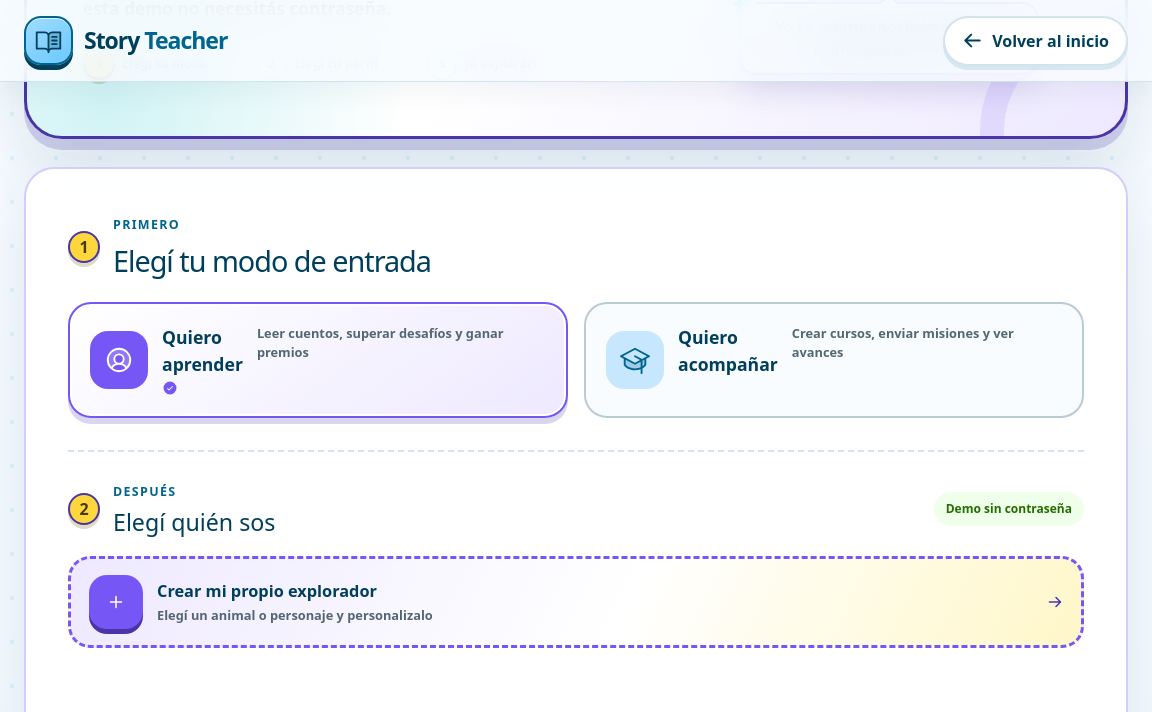
Story Teacher app › ofrece perfiles de estudiante y adulto sin pedir la edad
The width and height of the screenshot is (1152, 712).
(page scrolled)
Click the tab with aria-label "adulto" at [834, 360], box [584,302,1084,418]
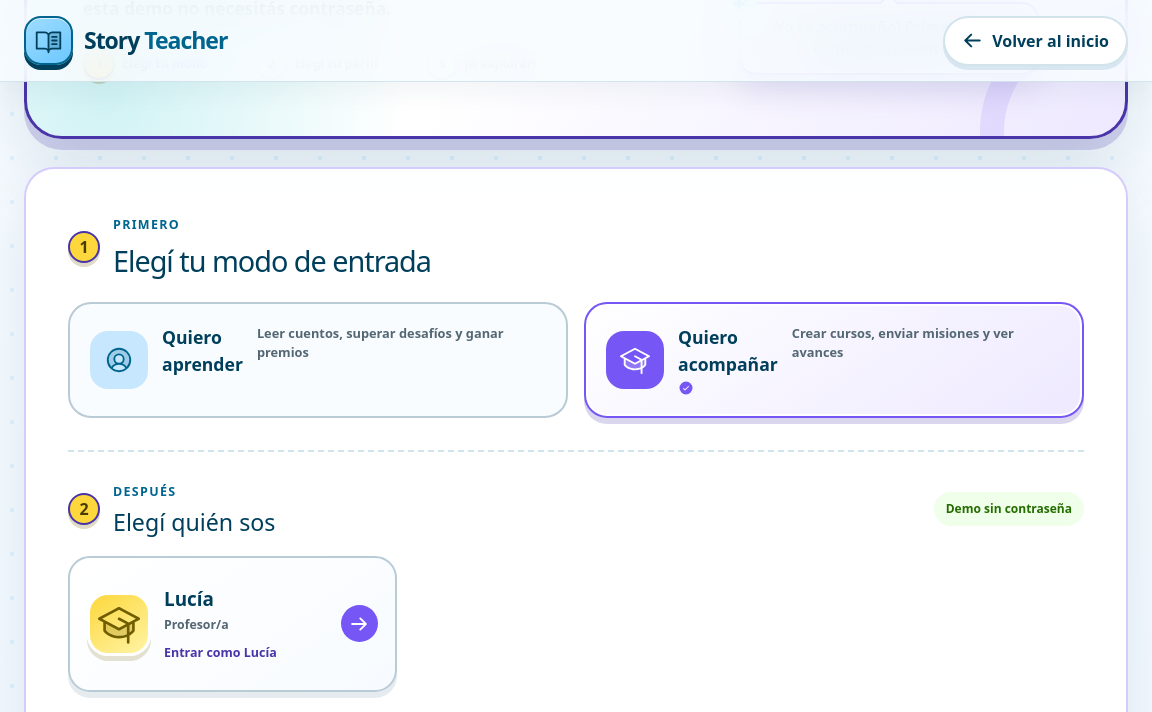
Expected: the button "Lucía Profesor/a Entrar como Lucía" is shown, [68,556,397,692]
